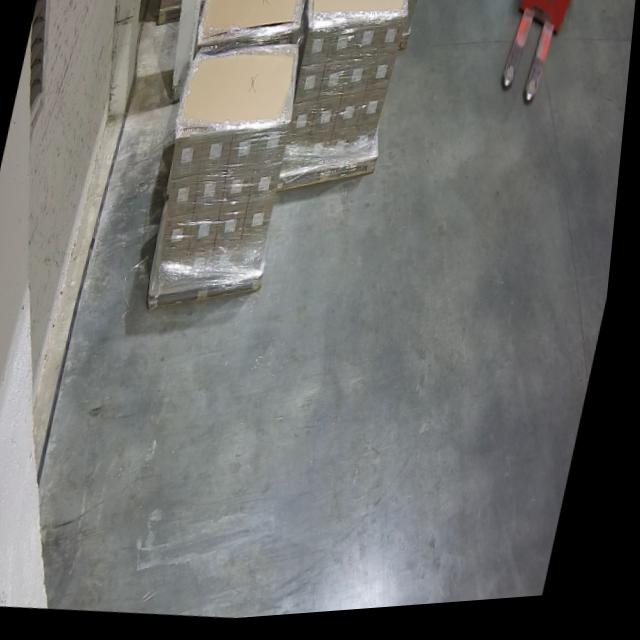pallet: (178, 49, 302, 135), (200, 0, 301, 43), (310, 0, 407, 31)
